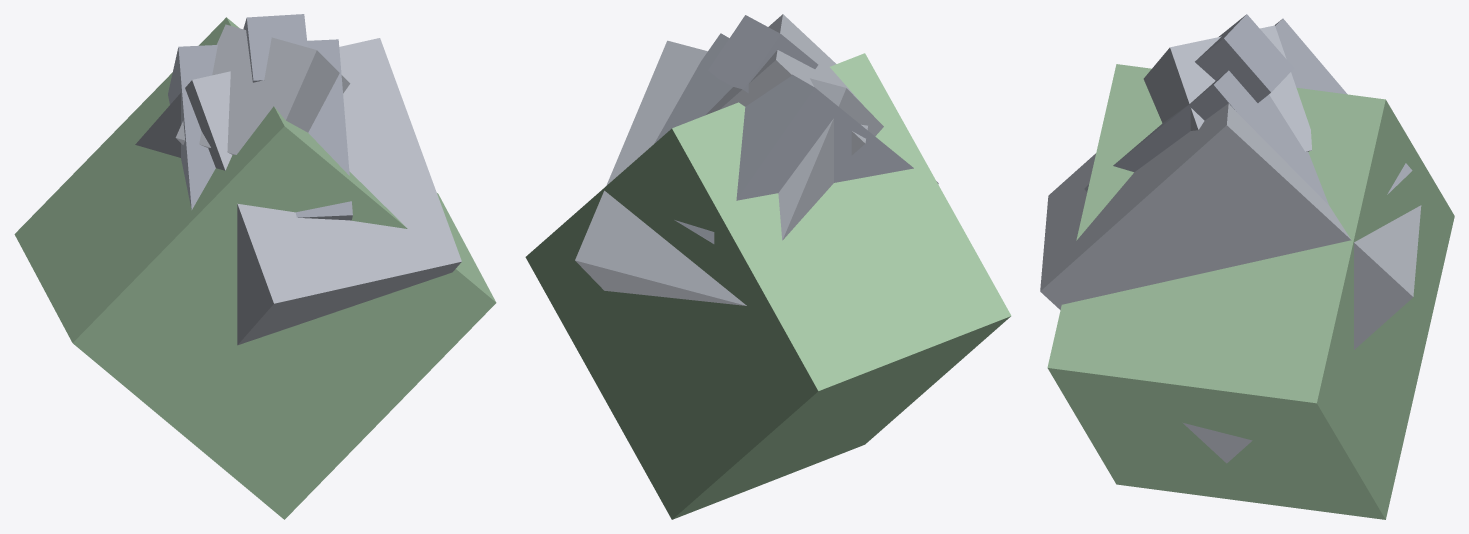
Rendered from Mountain.glb.
The picture shows the model from 3 angles, left to right: view 1: azimuth 30°, elevation 25°; view 2: azimuth 150°, elevation 25°; view 3: azimuth 270°, elevation 25°; orthographic projection. The views are drawn at different scales.
Visible parts, largest first — view 1: Mountain_1, Mountain_2, Mountain_0; view 2: Mountain_1, Mountain_2, Mountain_0; view 3: Mountain_1, Mountain_2, Mountain_0.
Part boxes in pixels (box(x1,y1,x2,y2)): Mountain_1: box(14, 17, 496, 519); Mountain_2: box(135, 24, 461, 345); Mountain_0: box(168, 14, 352, 220); Mountain_1: box(525, 53, 1011, 519); Mountain_2: box(575, 14, 938, 305); Mountain_0: box(654, 15, 913, 243); Mountain_1: box(1047, 64, 1454, 519); Mountain_2: box(1040, 25, 1421, 463); Mountain_0: box(1084, 14, 1412, 204).
Size of the model in its own units: 139 by 140 by 109.
